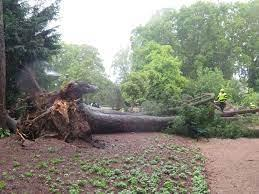Downstairs: (21, 80, 259, 142)
